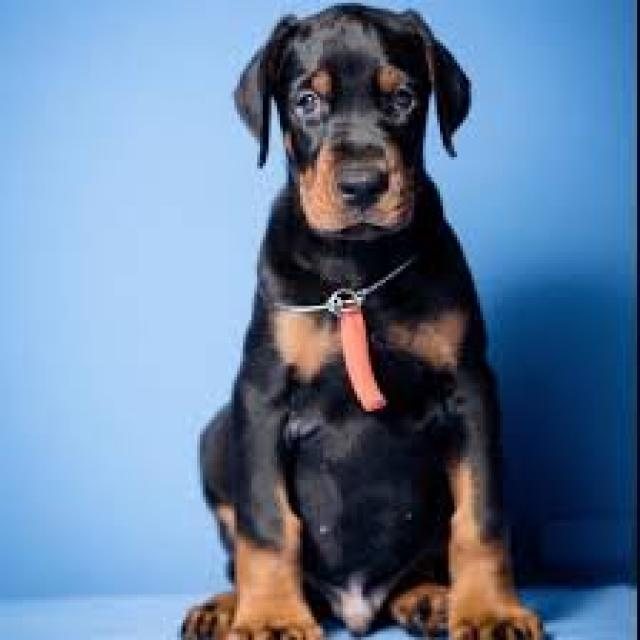Dog: (171, 0, 546, 640)
